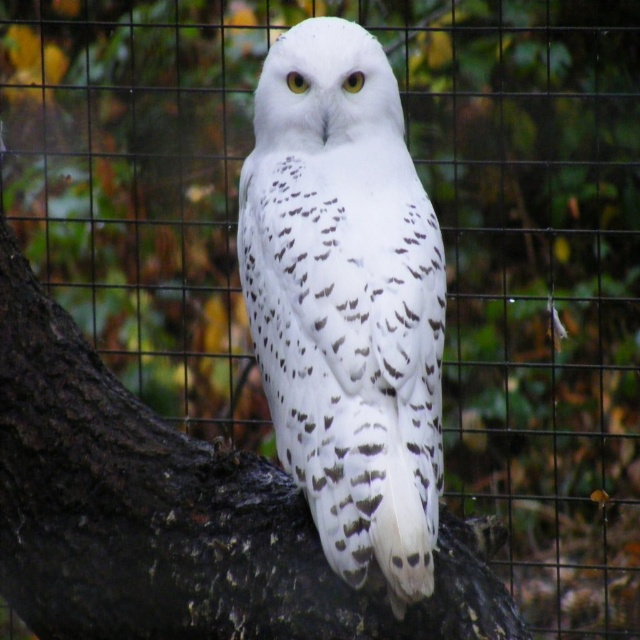Owl: (236, 12, 448, 618)
